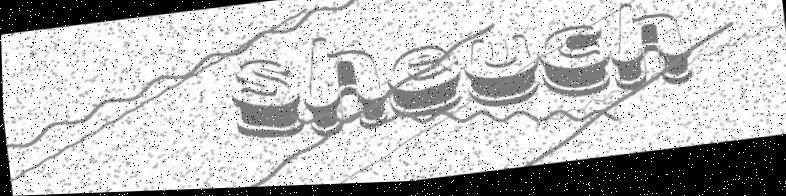c: (536, 21, 615, 109)
e: (380, 37, 470, 126)
h: (296, 26, 392, 143), (607, 1, 699, 98)
s: (222, 44, 307, 145)
u: (459, 28, 544, 112)
